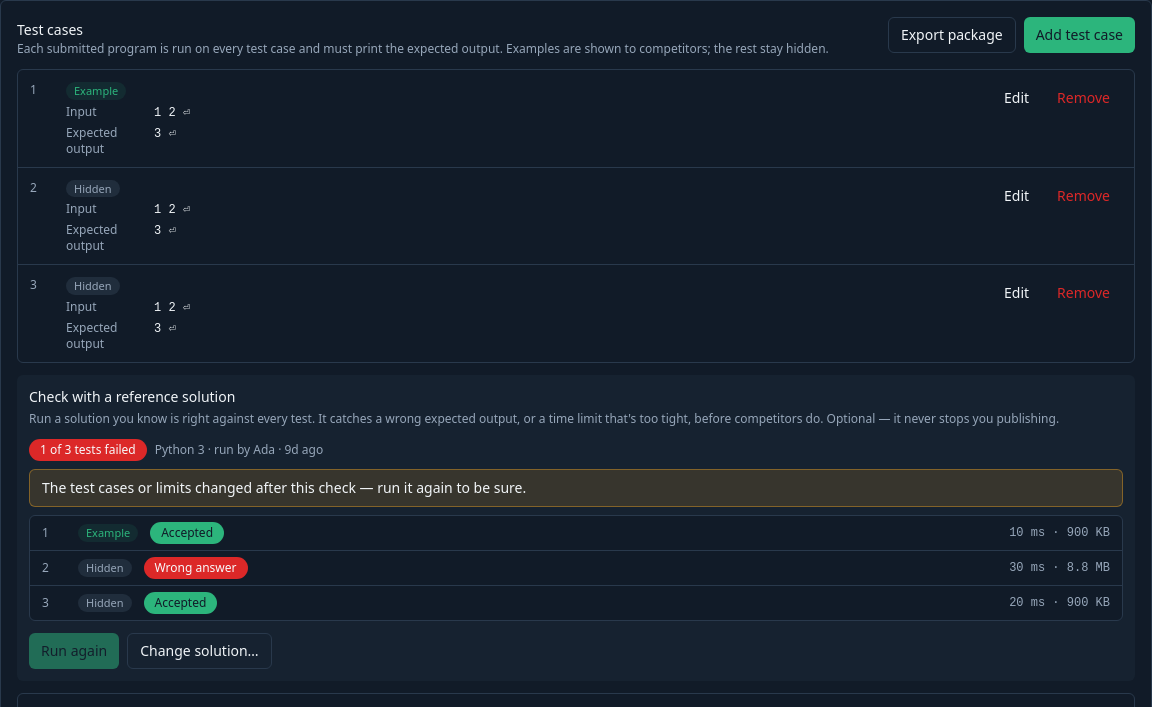
Scenario: the reference-solution check › won't rerun in a language the problem no longer allows
Expected: the button "Run again" is disabled, [29,633,119,669]
Click the button "Change solution…" at (199, 651), box [127,633,272,669]
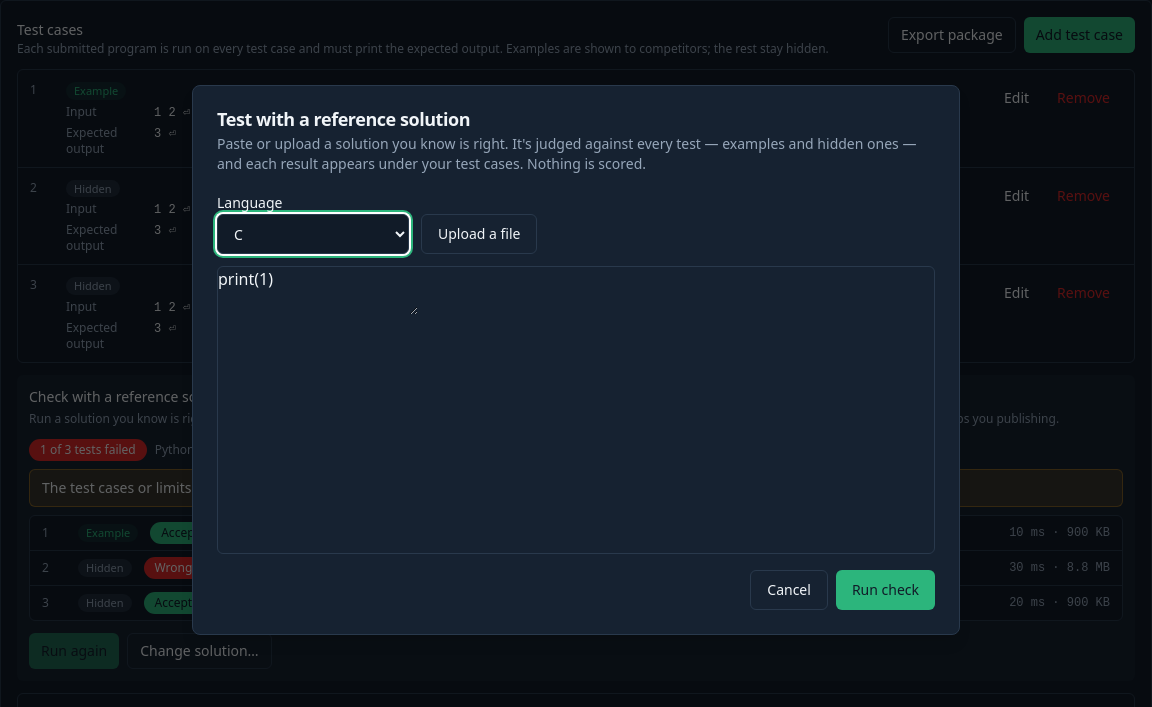
Now the dropdown labelled "Language" shows "C", box [217,214,409,254]
